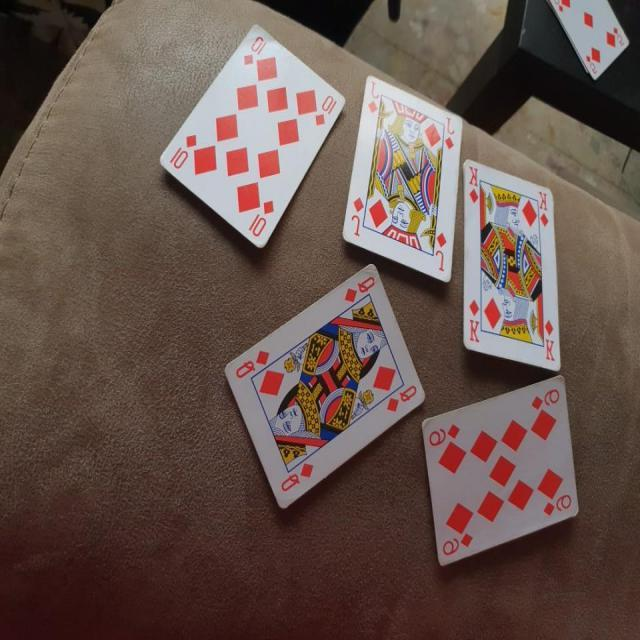10 of diamonds: (156, 20, 346, 250)
9 of diamonds: (422, 374, 580, 569)
jack of diamonds: (342, 73, 466, 284)
king of diamonds: (459, 159, 564, 373)
queen of diamonds: (222, 258, 429, 514)
